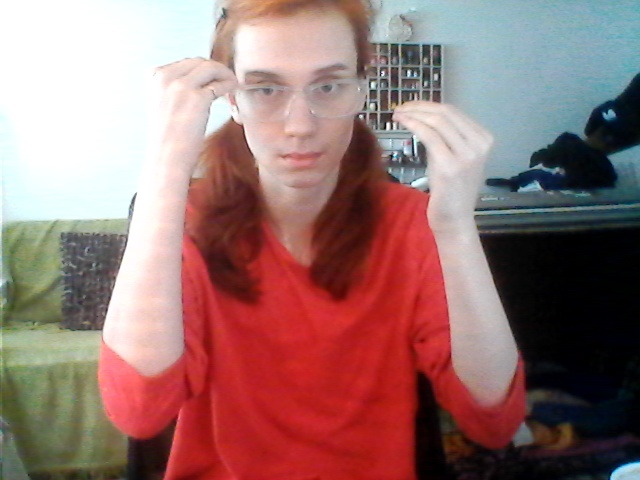ucit: (144, 54, 520, 196)
